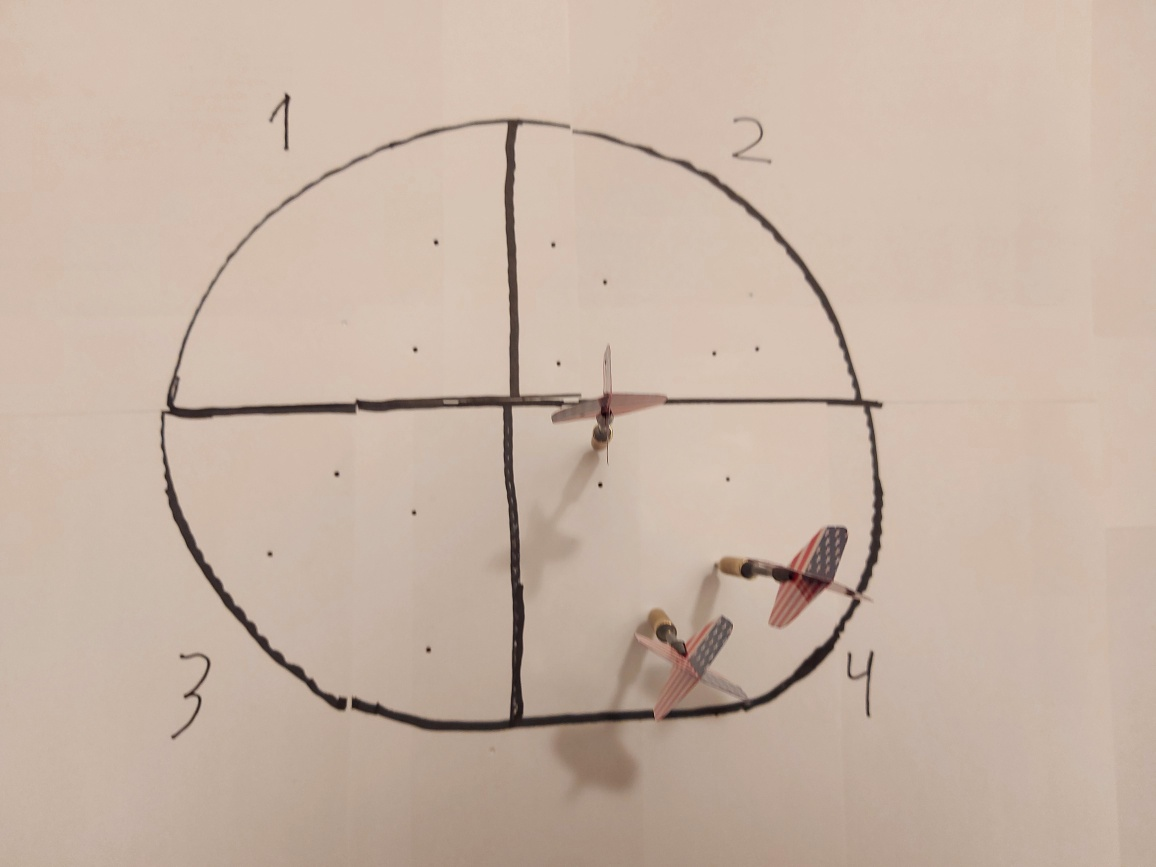Dart: (711, 520, 884, 632), (624, 591, 753, 732), (545, 337, 671, 473)
